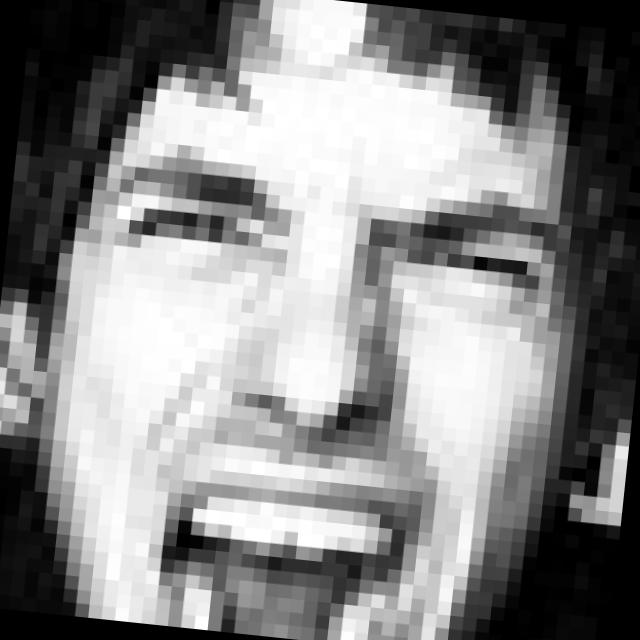angry: (71, 150, 552, 640)
